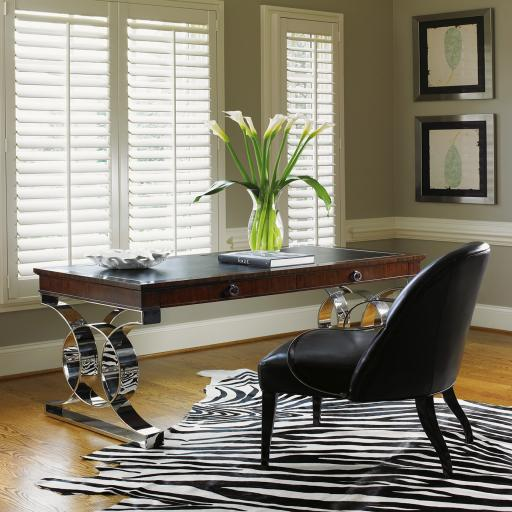chair: (256, 240, 490, 477)
desk: (34, 242, 424, 450)
wall: (0, 0, 512, 378)
